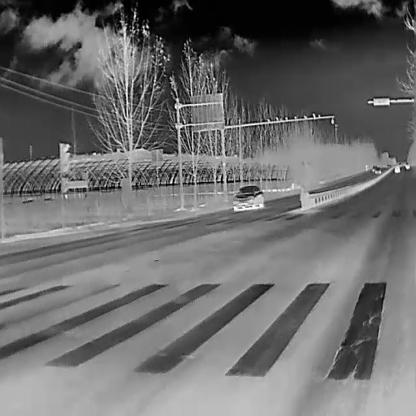car: (231, 184, 264, 212), (392, 164, 400, 173), (374, 166, 381, 174), (371, 164, 377, 172), (404, 163, 410, 170)
